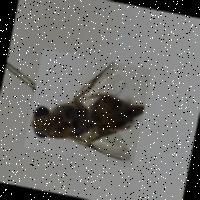Oriental-fruit-fly: (23, 47, 151, 167)
